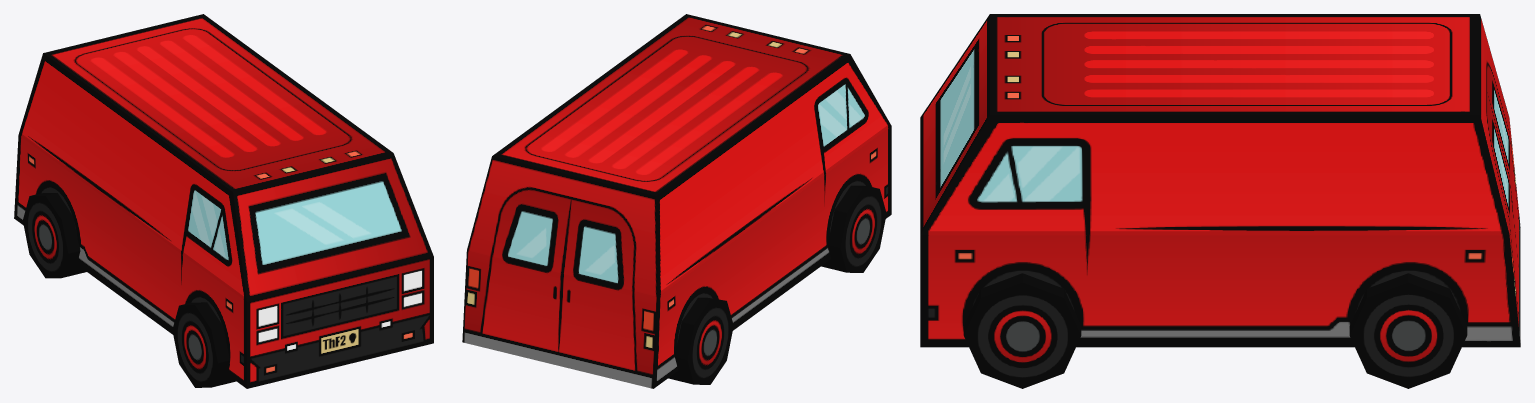
The model's file is car4_1.gltf.
3 renders of one model, left to right at view 1: azimuth 30°, elevation 25°; view 2: azimuth 150°, elevation 25°; view 3: azimuth 270°, elevation 25°, orthographic. The views are drawn at different scales.
Visible parts, largest first — view 1: Cylinder.002; view 2: Cylinder.002; view 3: Cylinder.002.
Boxes of the visible parts, <box> form: Cylinder.002: <box>14,14,433,388</box>; Cylinder.002: <box>462,14,891,388</box>; Cylinder.002: <box>920,14,1520,388</box>.
Size of the model in its own units: 2.79 by 2.48 by 5.26.
Materials: 1 (1 with a texture image).
